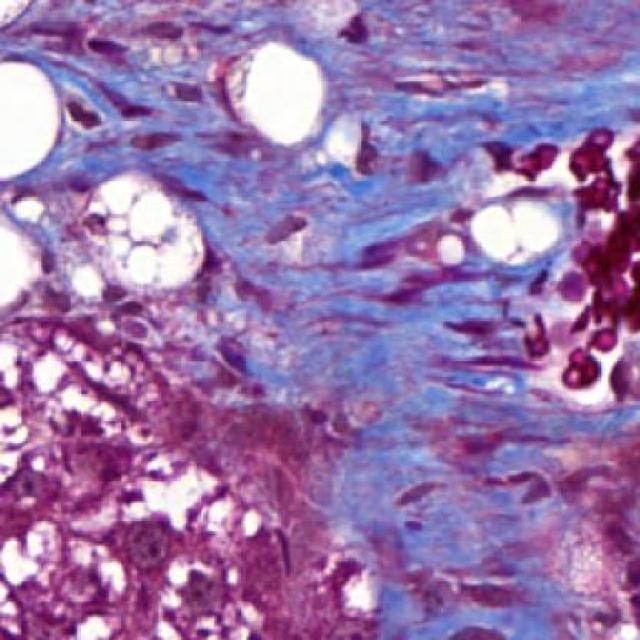steatosis: (3, 60, 62, 187)
